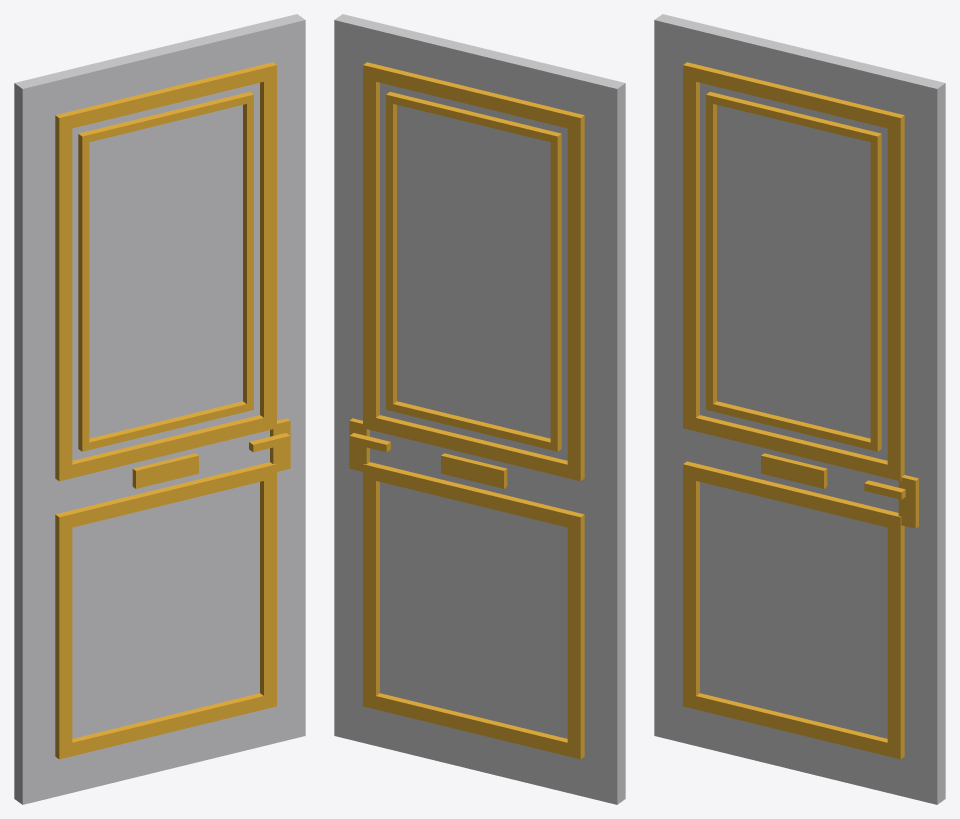
The model's file is SM_Door_obelisk_inner_100x240.fbx.
The picture shows the model from 3 angles, left to right: view 1: azimuth 30°, elevation 25°; view 2: azimuth 150°, elevation 25°; view 3: azimuth 330°, elevation 25°; orthographic projection.
Visible parts, largest first — view 1: SM_Door_obelisk_inner_100x240; view 2: SM_Door_obelisk_inner_100x240; view 3: SM_Door_obelisk_inner_100x240.
Part boxes in pixels (x1=…): SM_Door_obelisk_inner_100x240: x1=14, y1=14, x2=305, y2=804; SM_Door_obelisk_inner_100x240: x1=334, y1=14, x2=625, y2=804; SM_Door_obelisk_inner_100x240: x1=654, y1=14, x2=945, y2=804.
Size of the model in its own units: 0.988 by 2.39 by 0.175.
